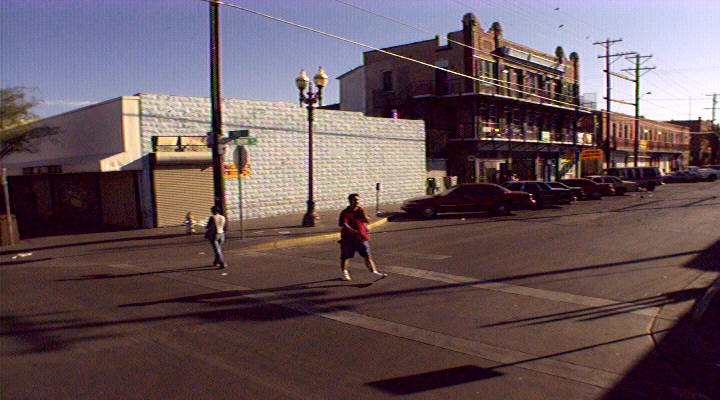Ramp: (50, 220, 255, 267)
